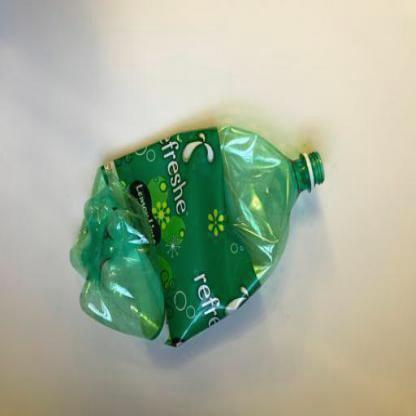Plastic: (66, 119, 329, 354)
